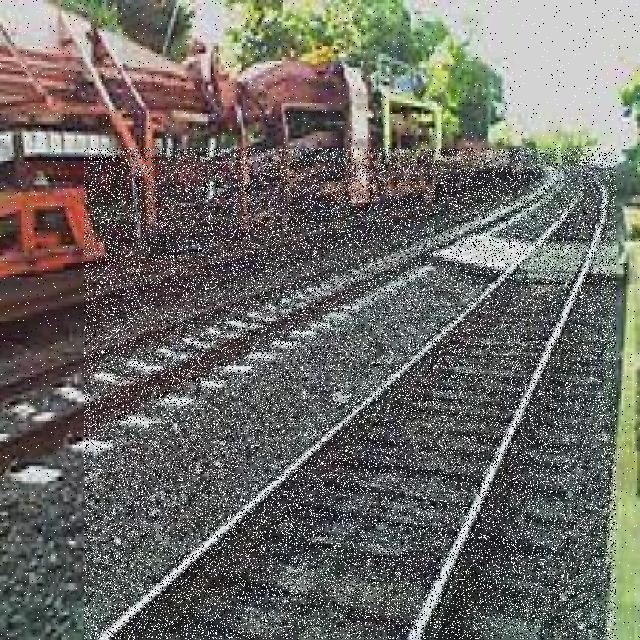rail: (84, 148, 616, 640), (3, 163, 558, 501)
